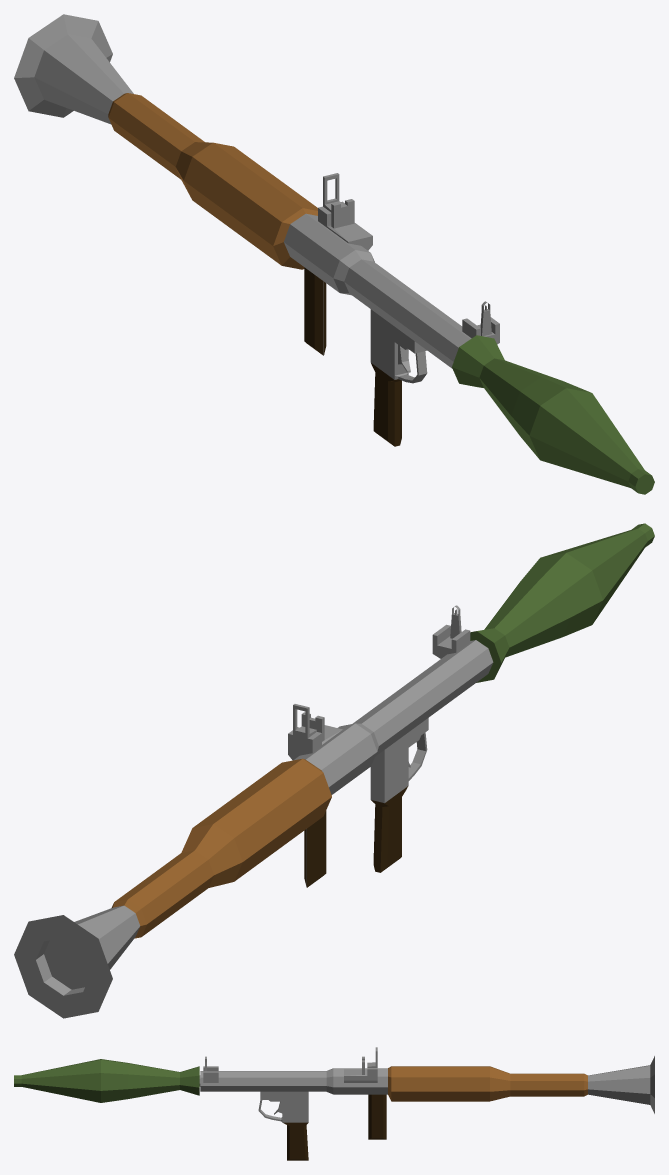
Rendered from RPG 7.fbx.
3 renders of one model, top to bottom at view 1: azimuth 30°, elevation 25°; view 2: azimuth 150°, elevation 25°; view 3: azimuth 270°, elevation 25°, orthographic. The views are drawn at different scales.
Parts seen in each view (by area): view 1: Body, RPG; view 2: Body, RPG; view 3: Body, RPG.
Part boxes in pixels (x1,y1,x2,y2): Body: (14, 14, 499, 446); RPG: (452, 335, 654, 494); Body: (14, 605, 493, 1018); RPG: (470, 523, 654, 682); Body: (200, 1047, 654, 1160); RPG: (14, 1059, 200, 1102).
Bounding box in the file's own units: 88.92 × 178 × 904.
